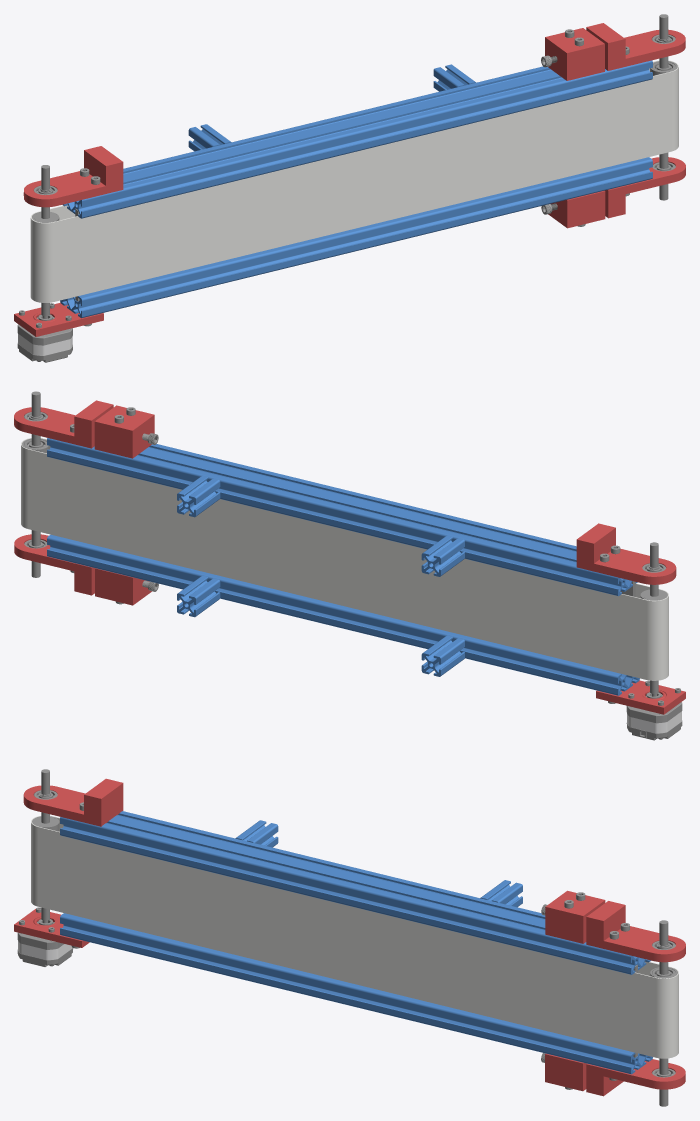
Rendered from FlatBelt v7.fbx.
The picture shows the model from 3 angles, top to bottom: view 1: azimuth 30°, elevation 25°; view 2: azimuth 150°, elevation 25°; view 3: azimuth 330°, elevation 25°; orthographic projection.
Visible parts, largest first — view 1: Body1 (×13), Body3; view 2: Body1 (×15), Body3; view 3: Body1 (×13).
Part boxes in pixels (<box>): Body1 (×13): <box>14,14,685,355</box>; Body3: <box>17,324,72,345</box>; Body1 (×15): <box>14,391,685,733</box>; Body3: <box>626,702,682,723</box>; Body1 (×13): <box>14,778,685,1106</box>.
Bounding box in the file's own units: 691 × 188 × 85.11.
